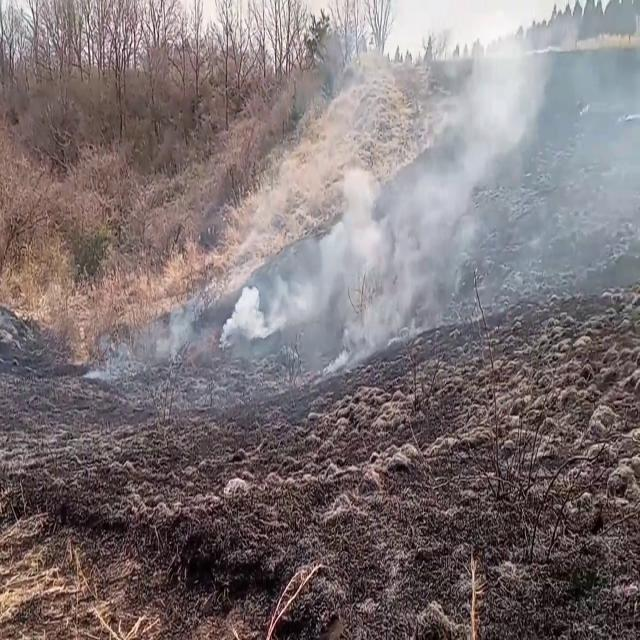Smoke: (222, 6, 620, 381)
